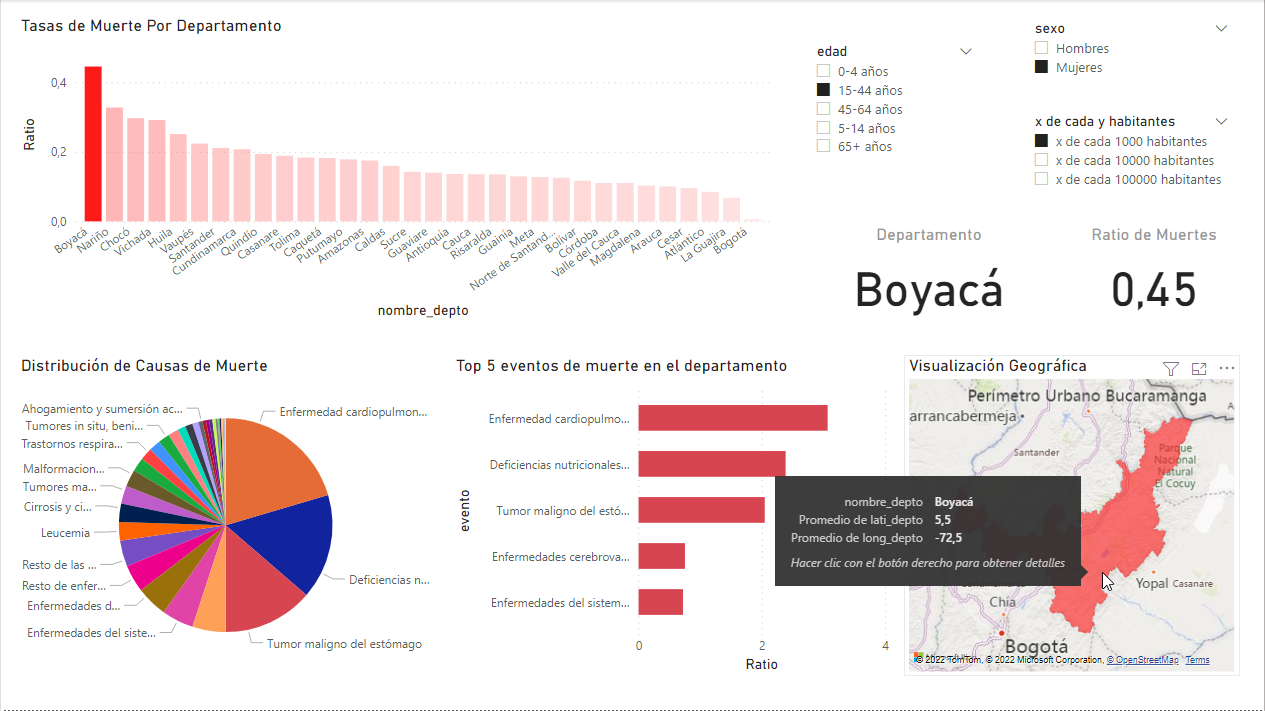

The page's visual inventory and layout, read from the dashboard file:
{"tool":"powerbi","page":{"name":"Visualización Por Departamento","canvas":[1280,720],"ordinal":0},"visuals":[{"type":"clusteredColumnChart","title":"Tasas de Muerte Por Departamento","fields":{"Category":["public lugar.nombre_depto"],"Y":["public fact_muertes.Ratio"]},"box":[15.1,15.1,769.3,312.4],"z":0},{"type":"slicer","fields":{"Values":["filtro habitantes.Columna1"]},"box":[1034.6,109.5,220.9,88.7],"z":1000},{"type":"pieChart","title":"Distribución de Causas de Muerte","fields":{"Category":["public evento.evento"],"Y":["public fact_muertes.Ratio"]},"box":[15.1,359.6,424.8,325.7],"z":2000},{"type":"clusteredBarChart","title":"Top 5 eventos de muerte en el departamento","fields":{"Category":["public evento.evento"],"Y":["public fact_muertes.Ratio"]},"box":[455.9,359.6,449.3,325.7],"z":3000},{"type":"filledMap","title":"Visualización Geográfica","fields":{"Category":["public lugar.nombre_depto"],"Y":["Avg(public lugar.lati_depto)"],"X":["Avg(public lugar.long_depto)"]},"box":[915.6,359.6,339.8,325.7],"z":4000},{"type":"slicer","fields":{"Values":["public perfil.edad"]},"box":[813.7,38.7,183.1,124.6],"z":5000},{"type":"slicer","fields":{"Values":["public perfil.sexo"]},"box":[1034.6,15.1,220.9,74.6],"z":6000},{"type":"card","title":"Departamento","fields":{"Values":["Min(public lugar.nombre_depto)"]},"box":[795.8,226.5,289.8,101],"z":7000},{"type":"card","title":"Ratio de Muertes","fields":{"Values":["public fact_muertes.Ratio"]},"box":[1082.7,226.5,172.7,101],"z":8000}]}

Visuals, with their boxes in screenshot pixels (x1, y1, x2, y2), scaled from the page's 1280x720 canvas onto the 1265x711 screenshot:
"Tasas de Muerte Por Departamento" clusteredColumnChart: (15, 15, 775, 323)
slicer - filtro habitantes.Columna1: (1022, 108, 1241, 196)
"Distribución de Causas de Muerte" pieChart: (15, 355, 435, 677)
"Top 5 eventos de muerte en el departamento" clusteredBarChart: (451, 355, 895, 677)
"Visualización Geográfica" filledMap: (905, 355, 1241, 677)
slicer - public perfil.edad: (804, 38, 985, 161)
slicer - public perfil.sexo: (1022, 15, 1241, 89)
"Departamento" card: (786, 224, 1073, 323)
"Ratio de Muertes" card: (1070, 224, 1241, 323)
